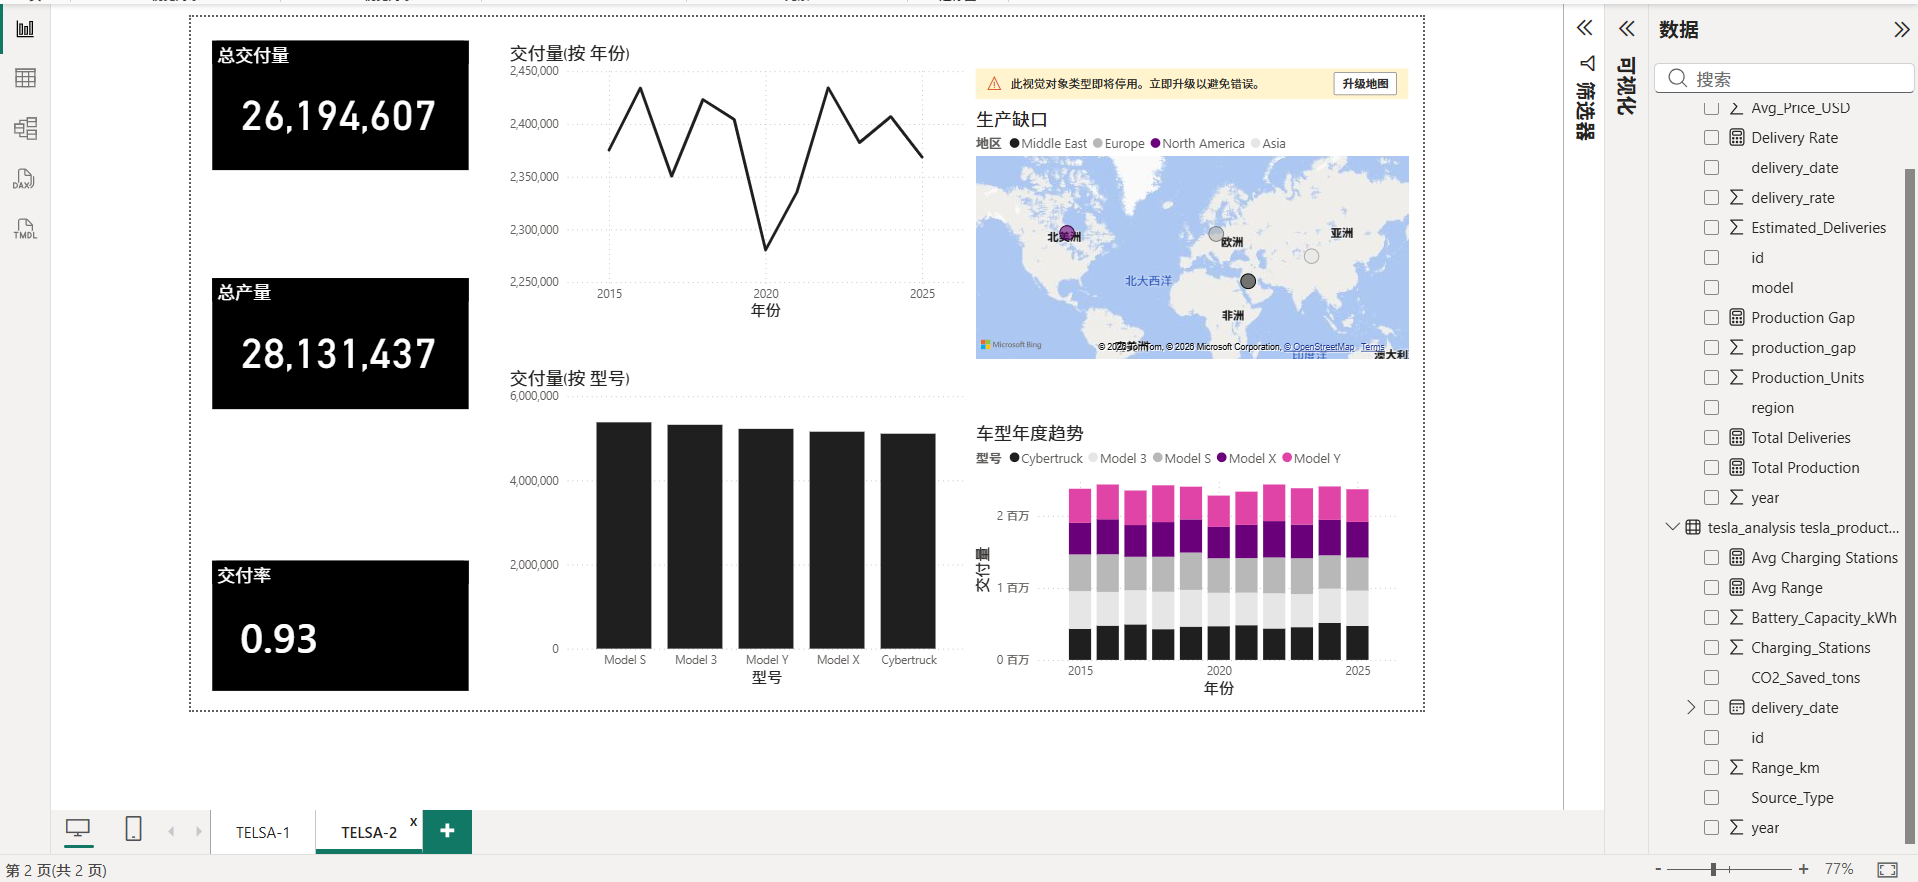

Layout of this report page (visuals, bound fields, positions):
{"tool":"powerbi","page":{"name":"TELSA-2","canvas":[1280,720],"ordinal":1},"visuals":[{"type":"cardVisual","title":"总交付量","fields":{"Data":["tesla_analysis tesla_deliveries.Total Deliveries"]},"box":[22.3,24.1,266.3,134],"z":0},{"type":"cardVisual","title":"总产量","fields":{"Data":["tesla_analysis tesla_deliveries.Total Production"]},"box":[22.3,271.5,266.3,135.7],"z":1000},{"type":"cardVisual","title":"交付率","fields":{"Data":["tesla_analysis tesla_deliveries.Delivery Rate"]},"box":[22.3,565.3,266.3,135],"z":2000},{"type":"lineChart","fields":{"Category":["tesla_analysis tesla_deliveries.year"],"Y":["tesla_analysis tesla_deliveries.Total Deliveries"]},"box":[325.5,23.5,484.3,296.1],"z":4000},{"type":"columnChart","fields":{"Category":["tesla_analysis tesla_deliveries.model"],"Y":["tesla_analysis tesla_deliveries.Total Deliveries"]},"box":[325.5,360.8,484.3,339.2],"z":5000},{"type":"map","title":"生产缺口","fields":{"Category":["tesla_analysis tesla_deliveries.region"],"Series":["tesla_analysis tesla_deliveries.region"],"Size":["tesla_analysis tesla_deliveries.Production Gap"]},"box":[810.4,53.2,459.7,306.5],"z":6000},{"type":"columnChart","title":"车型年度趋势","fields":{"Category":["tesla_analysis tesla_deliveries.year"],"Y":["tesla_analysis tesla_deliveries.Total Deliveries"],"Series":["tesla_analysis tesla_deliveries.model"]},"box":[810.4,418.2,449.4,293.5],"z":7000}]}

Visuals, with their boxes on the page's 1280x720 design canvas (x1, y1, x2, y2). These are canvas units, not pixel positions in the 1918x882 screenshot, which may show the page scaled, cropped or inside an application window:
"总交付量" cardVisual: {"x1": 22, "y1": 24, "x2": 289, "y2": 158}
"总产量" cardVisual: {"x1": 22, "y1": 272, "x2": 289, "y2": 407}
"交付率" cardVisual: {"x1": 22, "y1": 565, "x2": 289, "y2": 700}
lineChart - tesla_analysis tesla_deliveries.year x tesla_analysis tesla_deliveries.Total Deliveries: {"x1": 326, "y1": 24, "x2": 810, "y2": 320}
columnChart - tesla_analysis tesla_deliveries.model x tesla_analysis tesla_deliveries.Total Deliveries: {"x1": 326, "y1": 361, "x2": 810, "y2": 700}
"生产缺口" map: {"x1": 810, "y1": 53, "x2": 1270, "y2": 360}
"车型年度趋势" columnChart: {"x1": 810, "y1": 418, "x2": 1260, "y2": 712}
